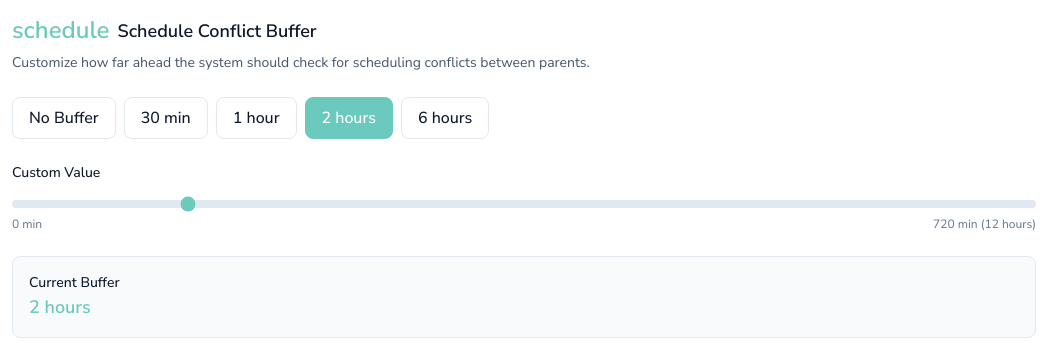
Test: ConflictWindowSettings › should handle multiple consecutive preset changes
// Click No Buffer
Click the button "No Buffer".
click(64, 118)  # box [12,97,116,139]
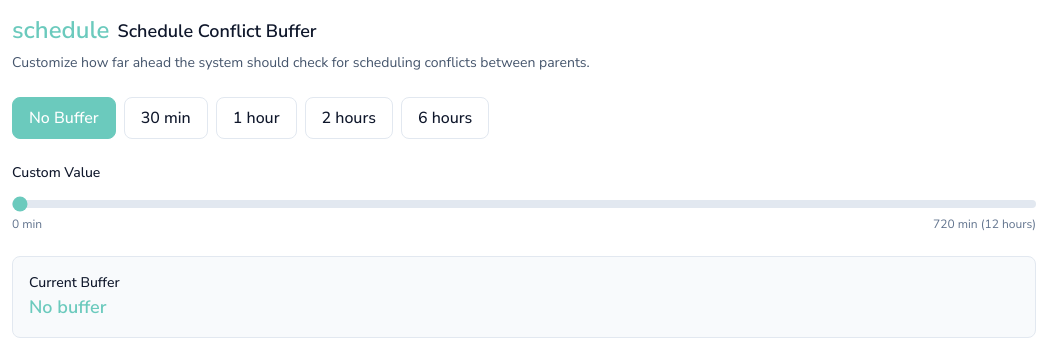
Now the slider holds "0", box [12,200,1036,208]
// Click 1 hour
Click the button "1 hour".
click(256, 118)  # box [216,97,296,139]
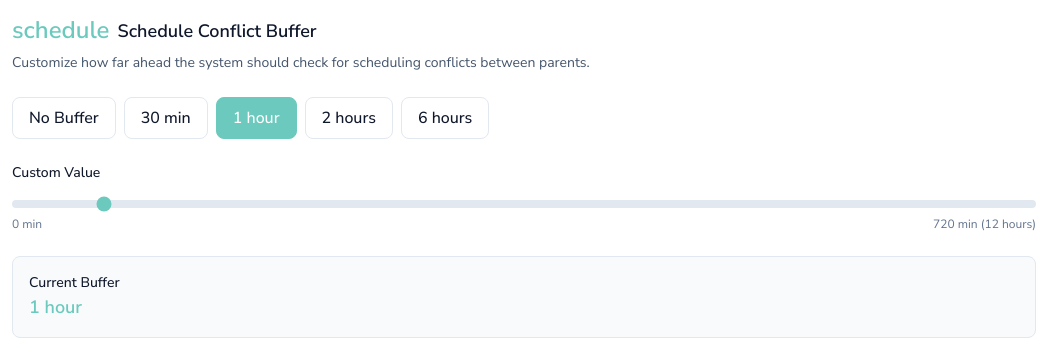
Now the slider holds "60", box [12,200,1036,208]
// Click 6 hours
Click the button "6 hours".
click(445, 118)  # box [401,97,489,139]
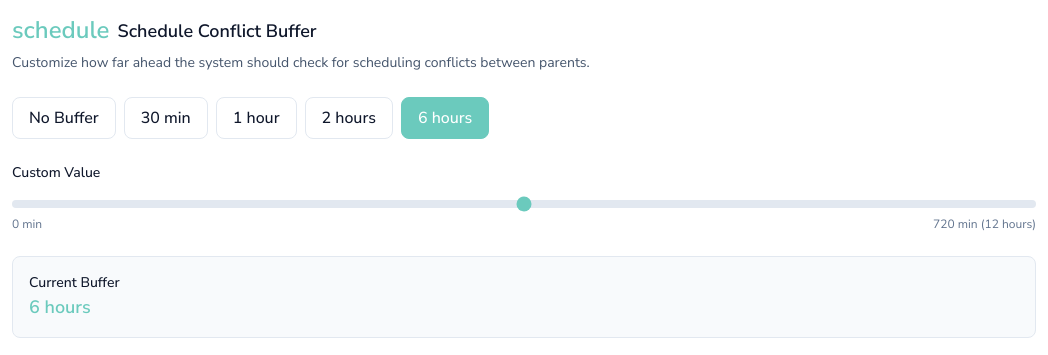
Now the slider holds "360", box [12,200,1036,208]
